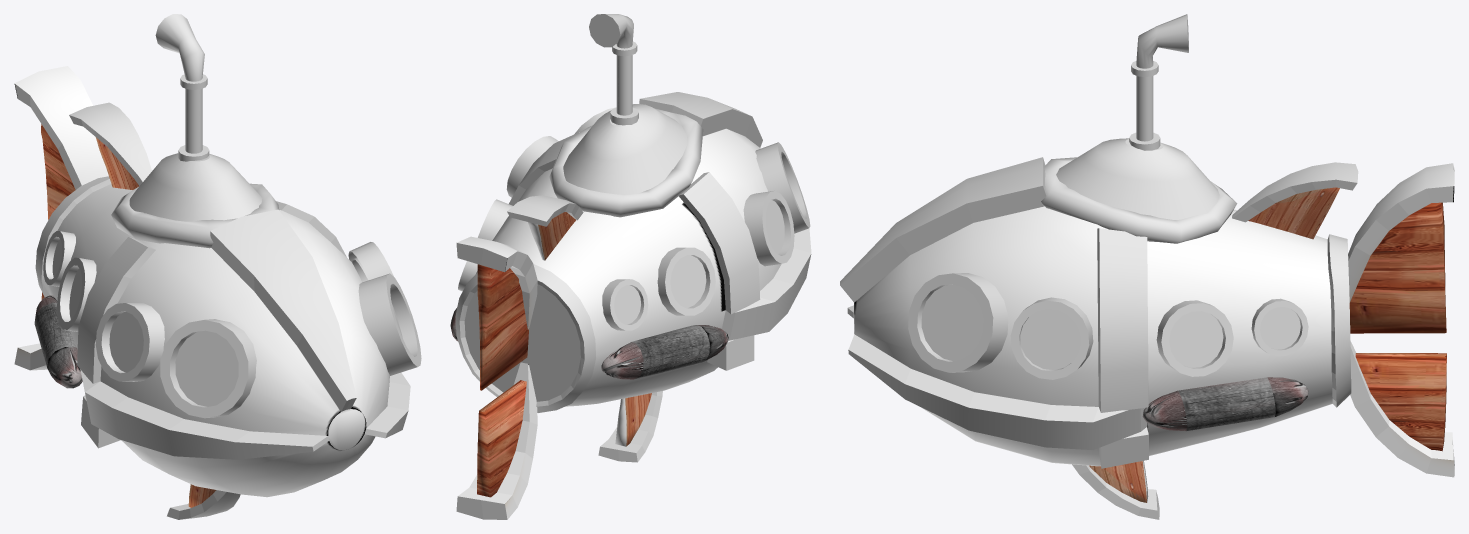
File: waterDevoce.FBX
3 renders of one model, left to right at view 1: azimuth 30°, elevation 25°; view 2: azimuth 150°, elevation 25°; view 3: azimuth 270°, elevation 25°, orthographic. The views are drawn at different scales.
Visible parts, largest first — view 1: Object014, Object002, Tube004, Cone003, Object019, Object007, Tube005, Object017, Cylinder006, Torus003, Object010, OilTank001 (+5 smaller); view 2: Object014, Object004, Tube004, Cone003, Object017, Object002, Torus003, Object008, OilTank001, Object006, Object009, Object019 (+7 smaller); view 3: Object014, Object002, Tube005, Object018, Object017, Object008, Cone003, Object009, OilTank002, Torus003, Object007, Object006 (+6 smaller).
Boxes of the visible parts, left/top/right/bottom form: Object014: left=48, top=184, right=389, bottom=497; Object002: left=80, top=209, right=410, bottom=459; Tube004: left=43, top=231, right=256, bottom=418; Cone003: left=129, top=153, right=262, bottom=221; Object019: left=52, top=239, right=238, bottom=406; Object007: left=14, top=66, right=107, bottom=189; Tube005: left=348, top=242, right=421, bottom=375; Object017: left=77, top=201, right=346, bottom=448; Cylinder006: left=155, top=14, right=209, bottom=161; Torus003: left=111, top=183, right=279, bottom=248; Object010: left=69, top=102, right=151, bottom=185; OilTank001: left=34, top=295, right=82, bottom=388; Object014: left=476, top=128, right=781, bottom=406; Object004: left=455, top=264, right=595, bottom=412; Tube004: left=602, top=142, right=810, bottom=330; Cone003: left=563, top=104, right=687, bottom=194; Object017: left=509, top=132, right=760, bottom=370; Object002: left=639, top=92, right=811, bottom=340; Torus003: left=549, top=108, right=703, bottom=217; Object008: left=477, top=264, right=528, bottom=390; OilTank001: left=601, top=325, right=728, bottom=379; Object006: left=456, top=362, right=537, bottom=519; Object009: left=477, top=380, right=526, bottom=497; Object019: left=614, top=200, right=784, bottom=324; Object014: left=853, top=206, right=1332, bottom=466; Object002: left=840, top=157, right=1146, bottom=449; Tube005: left=908, top=273, right=1308, bottom=379; Object018: left=921, top=284, right=1300, bottom=369; Object017: left=1097, top=228, right=1148, bottom=468; Object008: left=1349, top=202, right=1446, bottom=333; Cone003: left=1056, top=138, right=1219, bottom=219; Object009: left=1355, top=353, right=1446, bottom=451; OilTank002: left=1142, top=377, right=1308, bottom=431; Torus003: left=1041, top=157, right=1237, bottom=243; Object007: left=1348, top=163, right=1454, bottom=302; Object006: left=1350, top=340, right=1454, bottom=477.
Bounding box in the file's own units: 55.5 × 88.53 × 99.71.
Materials: 2 (2 with a texture image).
